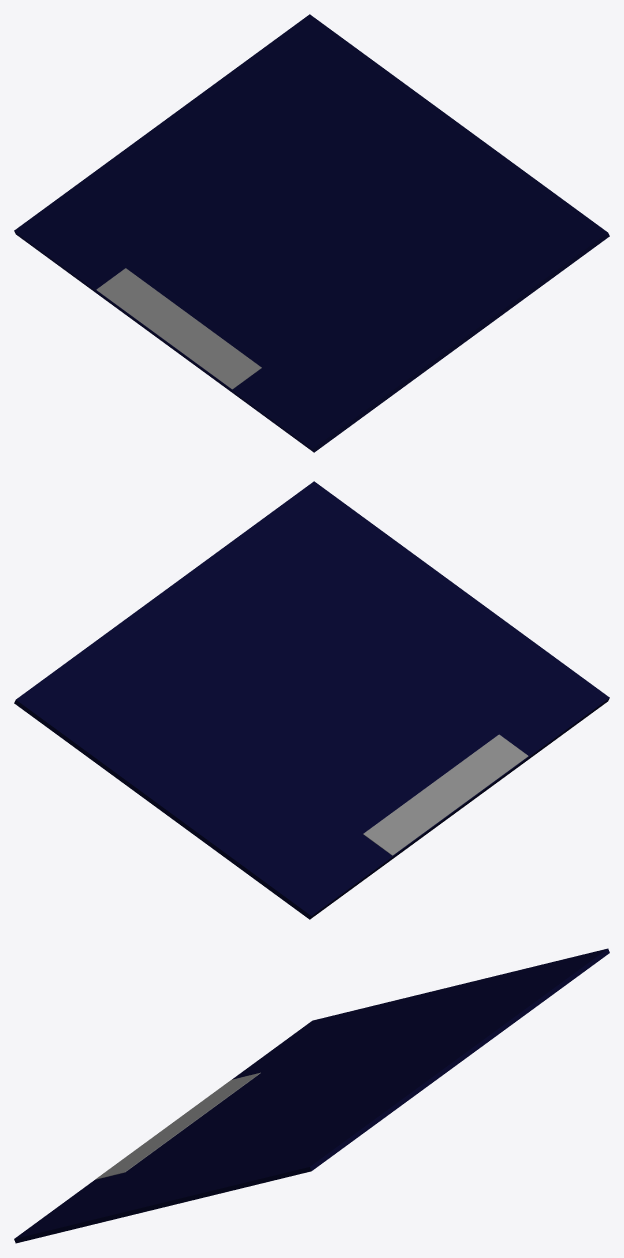
Rendered from PencilCase_Cover.FBX.
3 views of the same model, one above another, from view 1: azimuth 30°, elevation 25°; view 2: azimuth 150°, elevation 25°; view 3: azimuth 330°, elevation 25° (orthographic).
Visible parts, largest first — view 1: Box001, Box002; view 2: Box001, Box002; view 3: Box001, Box002.
Boxes of the visible parts, bbox=[...] form: Box001: bbox=[14, 14, 609, 452]; Box002: bbox=[96, 268, 261, 389]; Box001: bbox=[14, 481, 609, 919]; Box002: bbox=[363, 734, 528, 855]; Box001: bbox=[14, 948, 609, 1243]; Box002: bbox=[95, 1072, 260, 1179].
Bounding box in the file's own units: 91.12 × 43.41 × 158.
